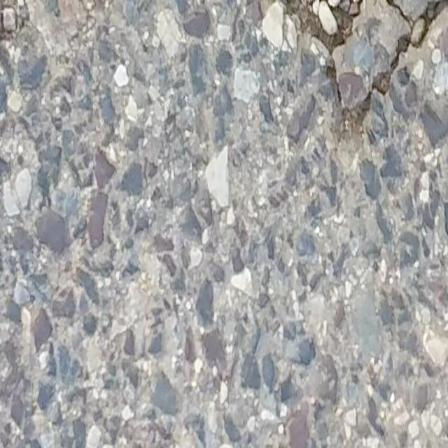crack: (286, 0, 447, 135)
